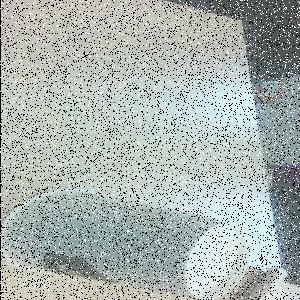Cup: (2, 189, 253, 300)
